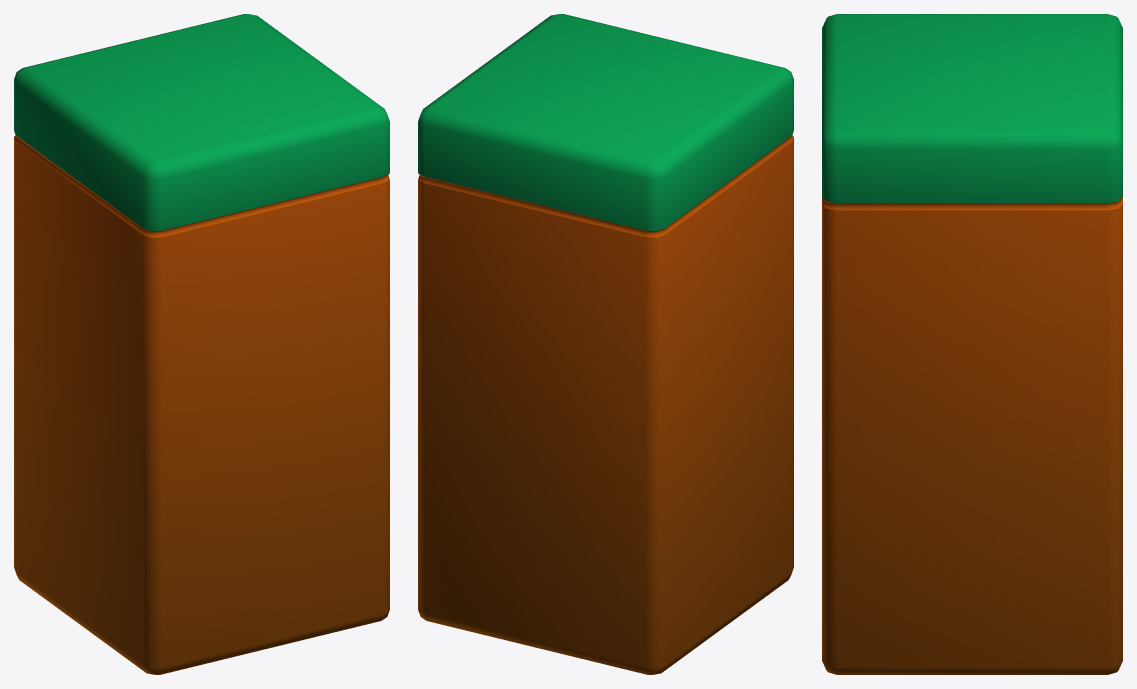
Rendered from 3D_Tile_Ground_01v03x2.fbx.
3 views of the same model, side by side, from view 1: azimuth 30°, elevation 25°; view 2: azimuth 150°, elevation 25°; view 3: azimuth 270°, elevation 25° (orthographic). The views are drawn at different scales.
Visible parts, largest first — view 1: 3D_Tile_Ground_01v03x2; view 2: 3D_Tile_Ground_01v03x2; view 3: 3D_Tile_Ground_01v03x2.
Boxes of the visible parts, x1,y1,x2,y2 form: 3D_Tile_Ground_01v03x2: (14,14,389,674); 3D_Tile_Ground_01v03x2: (418,14,793,674); 3D_Tile_Ground_01v03x2: (822,14,1122,674).
Bounding box in the file's own units: 200 × 400 × 200.
